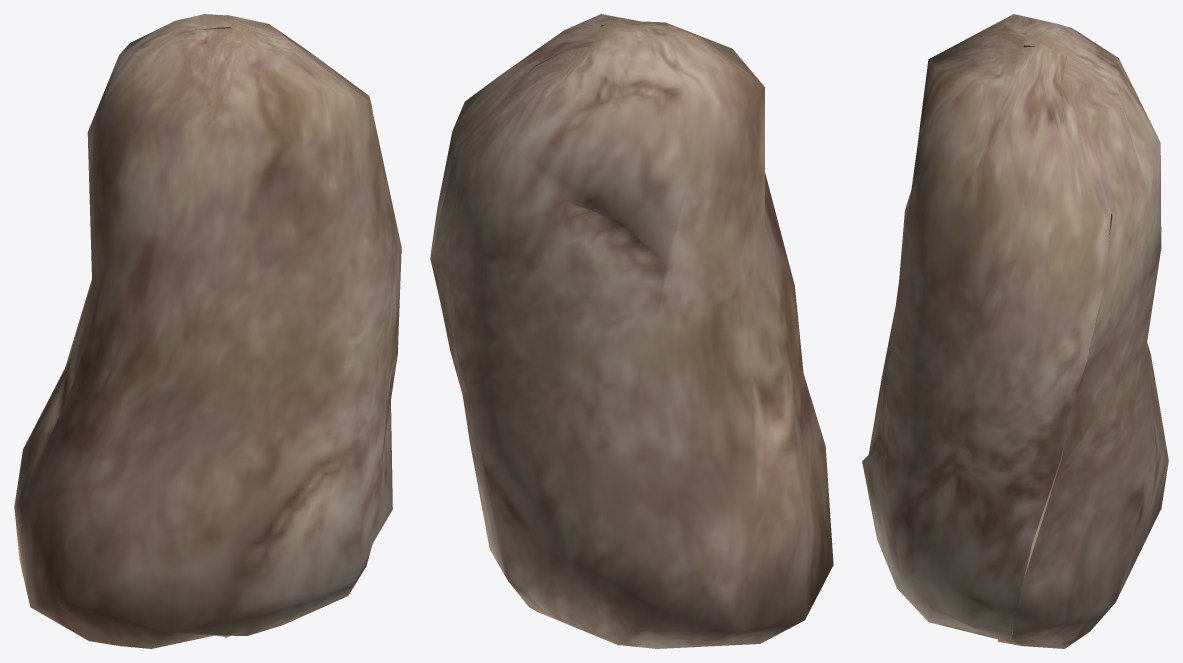
File: asteroid1.fbx
3 renders of one model, left to right at view 1: azimuth 30°, elevation 25°; view 2: azimuth 150°, elevation 25°; view 3: azimuth 270°, elevation 25°, orthographic. The views are drawn at different scales.
Visible parts, largest first — view 1: asteroid1_tga; view 2: asteroid1_tga; view 3: asteroid1_tga.
Boxes of the visible parts, x1,y1,x2,y2 form: asteroid1_tga: (14,14,401,648); asteroid1_tga: (430,14,833,648); asteroid1_tga: (862,14,1168,648).
Size of the model in its own units: 1936 by 2995 by 1398.
1 material, 1 textured.
